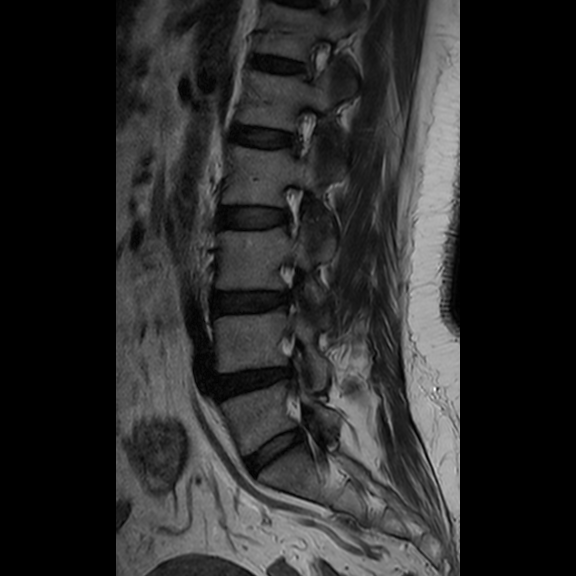LFS0: (279, 97, 326, 170)
